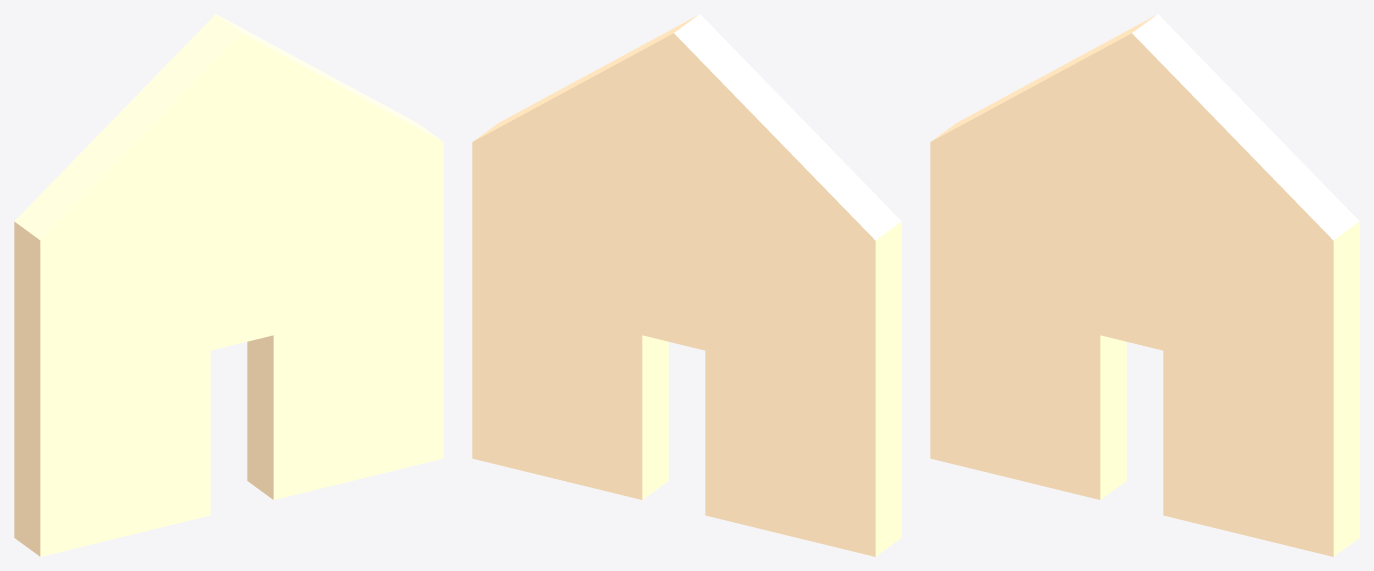
File: home-icon.gltf
3 renders of one model, left to right at view 1: azimuth 30°, elevation 25°; view 2: azimuth 150°, elevation 25°; view 3: azimuth 330°, elevation 25°, orthographic.
Visible parts, largest first — view 1: Curve; view 2: Curve; view 3: Curve.
Part boxes in pixels (<box>): Curve: <box>14,14,443,556</box>; Curve: <box>472,14,901,556</box>; Curve: <box>930,14,1359,556</box>.
Size of the model in its own units: 0.0452 by 0.0508 by 0.00521.
